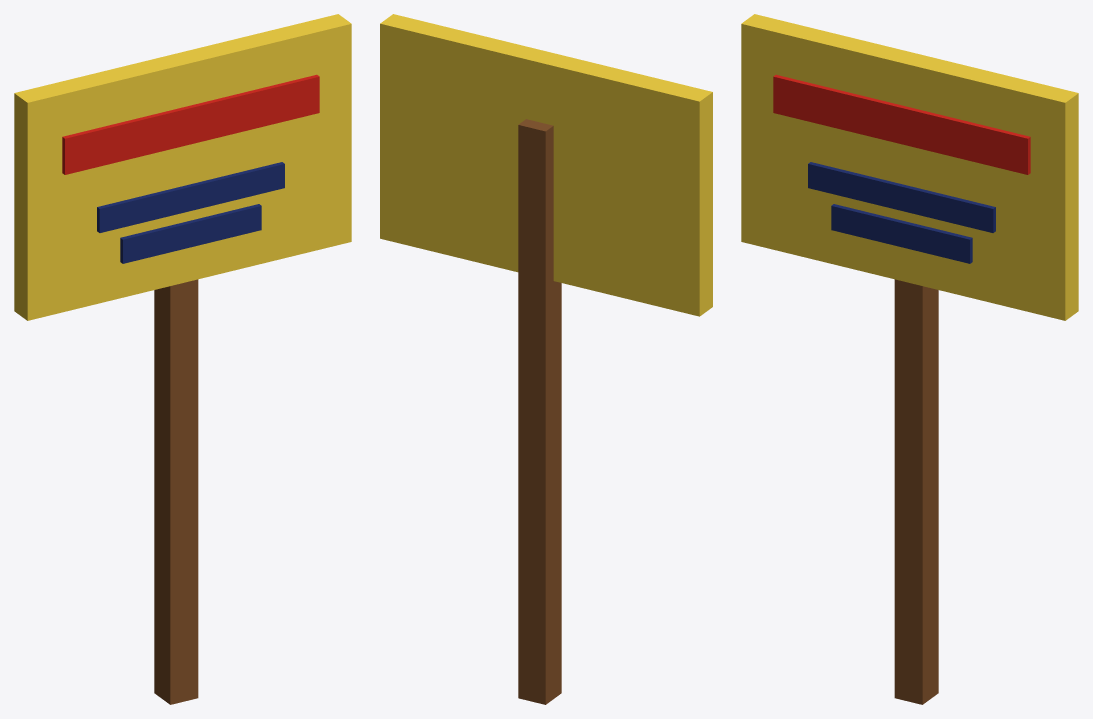
The model's file is ride_sign.glb.
3 renders of one model, left to right at view 1: azimuth 30°, elevation 25°; view 2: azimuth 150°, elevation 25°; view 3: azimuth 330°, elevation 25°, orthographic.
Parts seen in each view (by area): view 1: ride_sign; view 2: ride_sign; view 3: ride_sign.
Boxes of the visible parts, x1,y1,x2,y2 form: ride_sign: [14, 14, 351, 704]; ride_sign: [380, 14, 712, 704]; ride_sign: [741, 14, 1078, 704].
Size of the model in its own units: 1.4 by 2.65 by 0.18.
